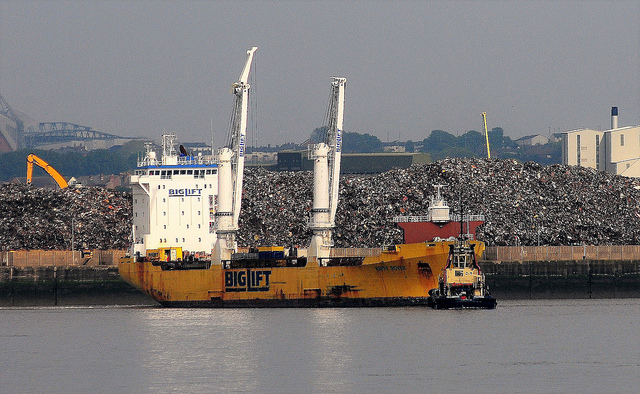bulk carrier: (123, 138, 446, 302)
tug_boat: (438, 237, 507, 316)
